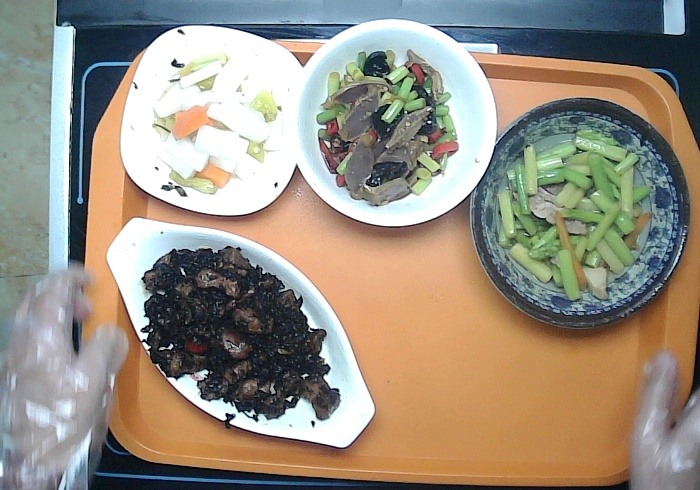ZNLD-Qing_Hua_Wan: (465, 104, 700, 327)
ZNLD-Si_Fang_Wan: (119, 20, 308, 216)
ZNLD-Tang_Wan: (292, 17, 497, 229)
ZNLD-Yu_Pan: (99, 217, 375, 447)
